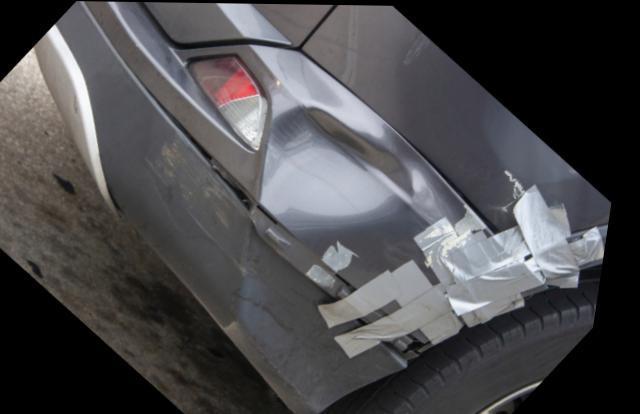dent: (265, 103, 419, 224)
scratch: (134, 140, 295, 295)
